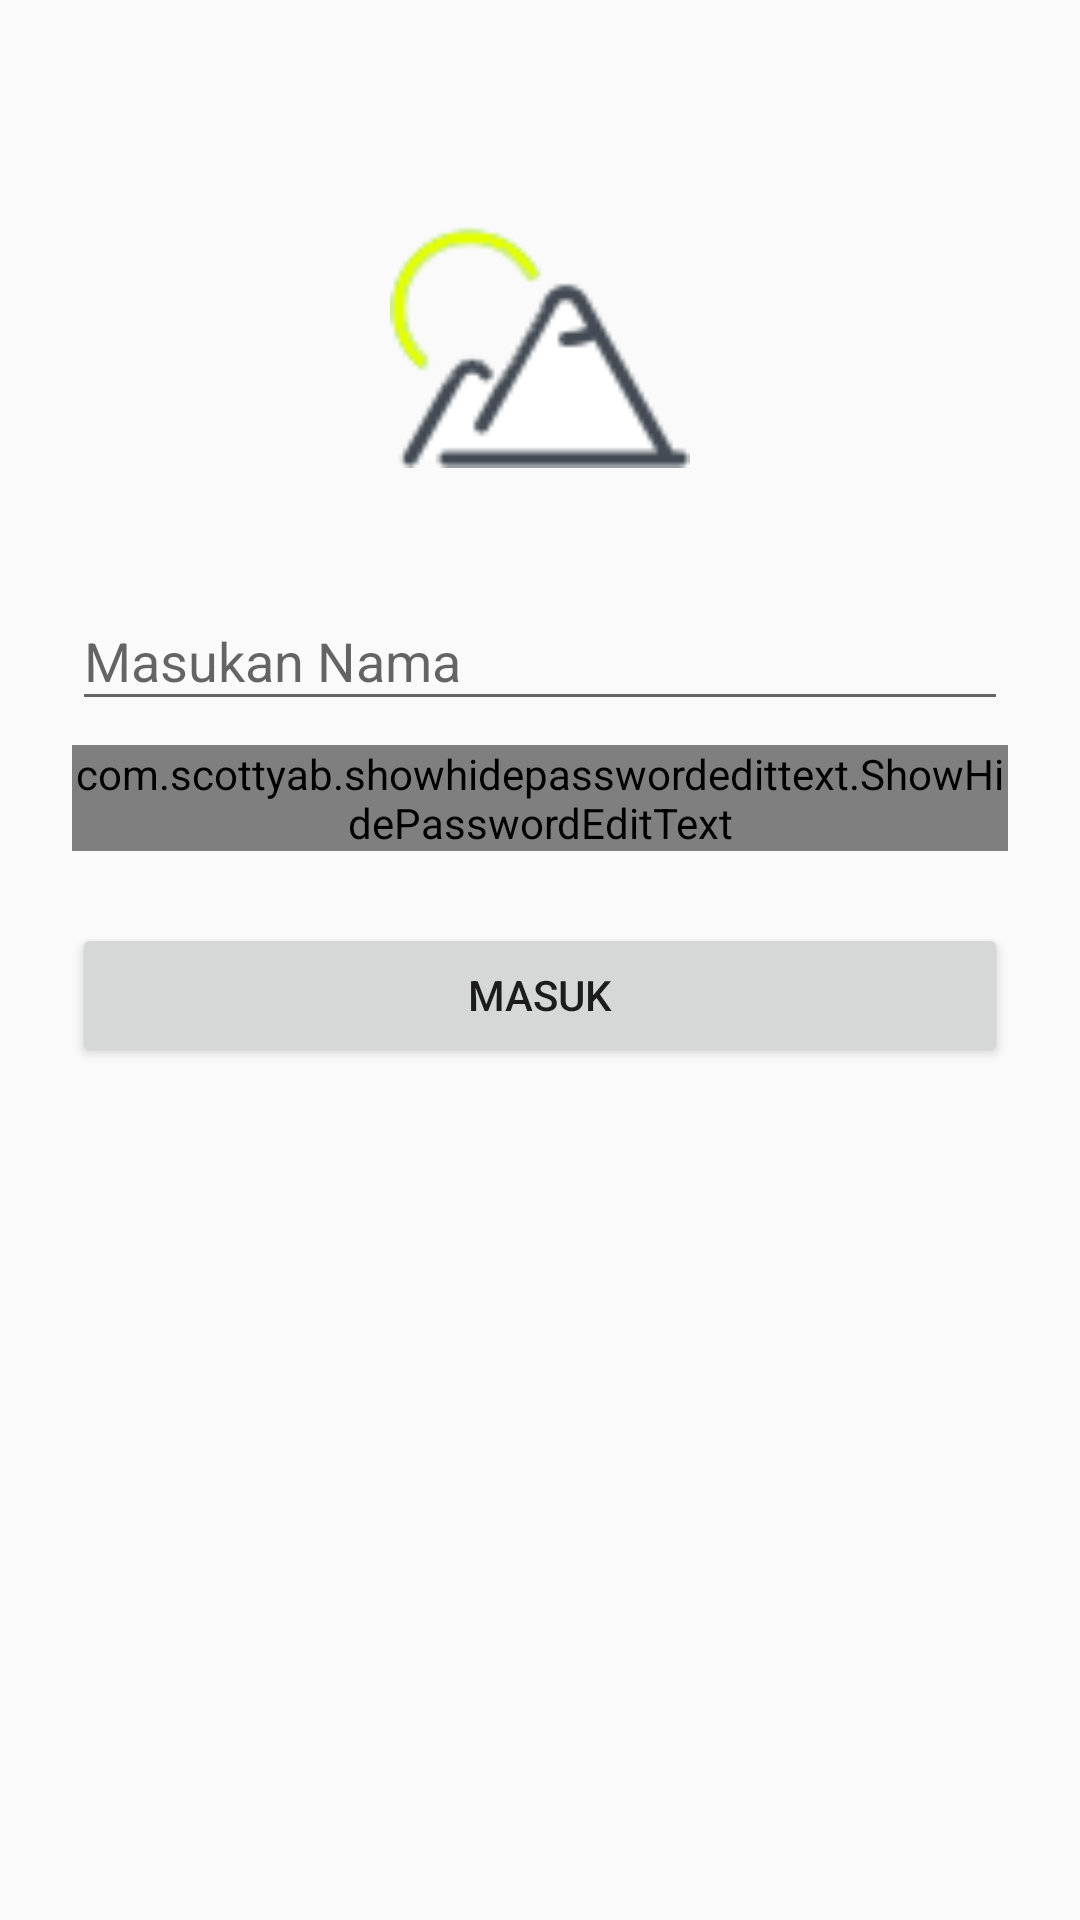

Screen size 1080x1920. Icon name, then its center in pixels as point (x, y):
gunung: point (540, 348)
